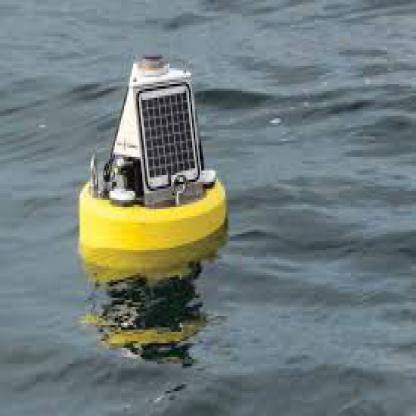buoy: (68, 41, 238, 277)
